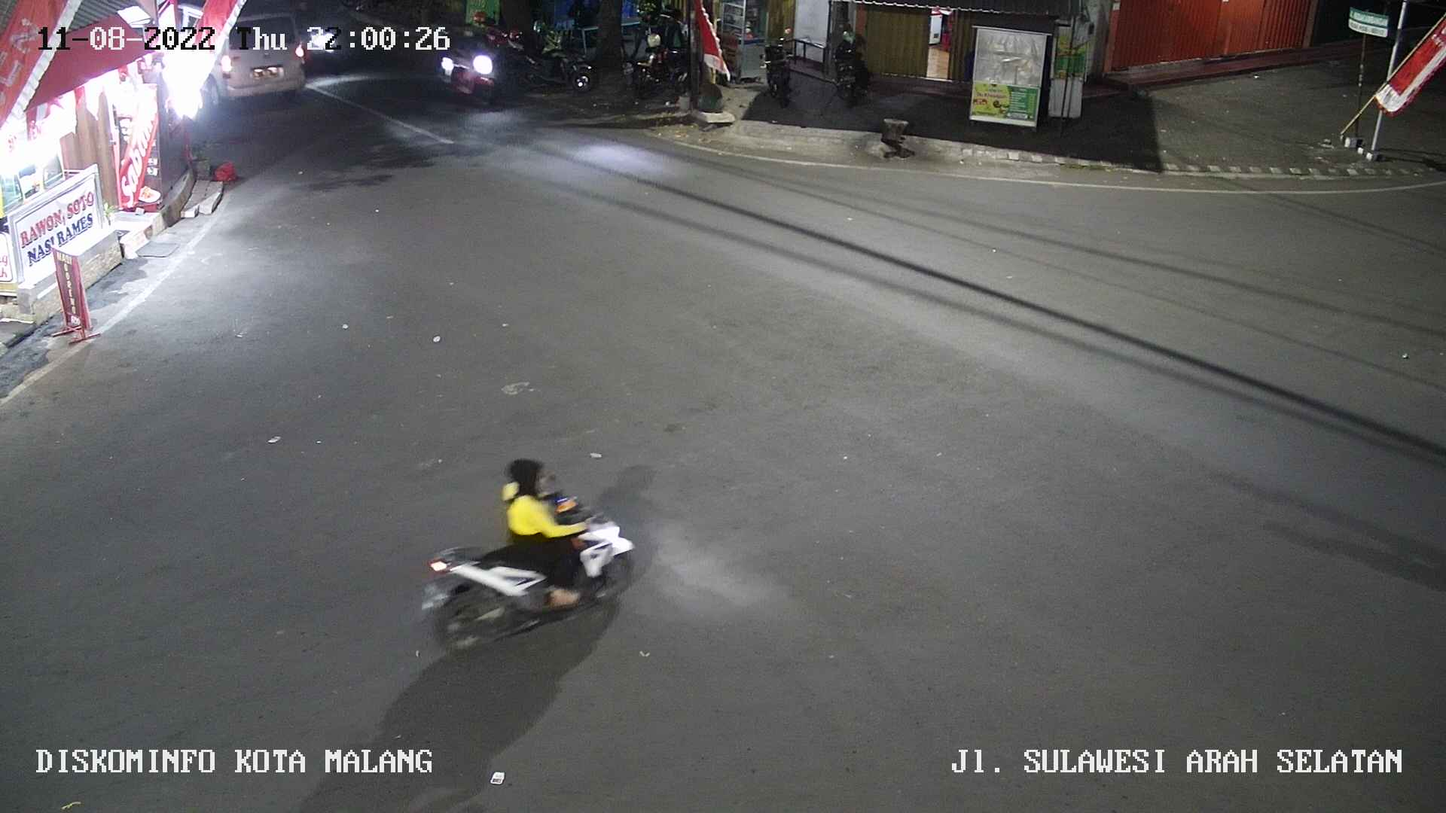without_helmet: (387, 450, 644, 643)
